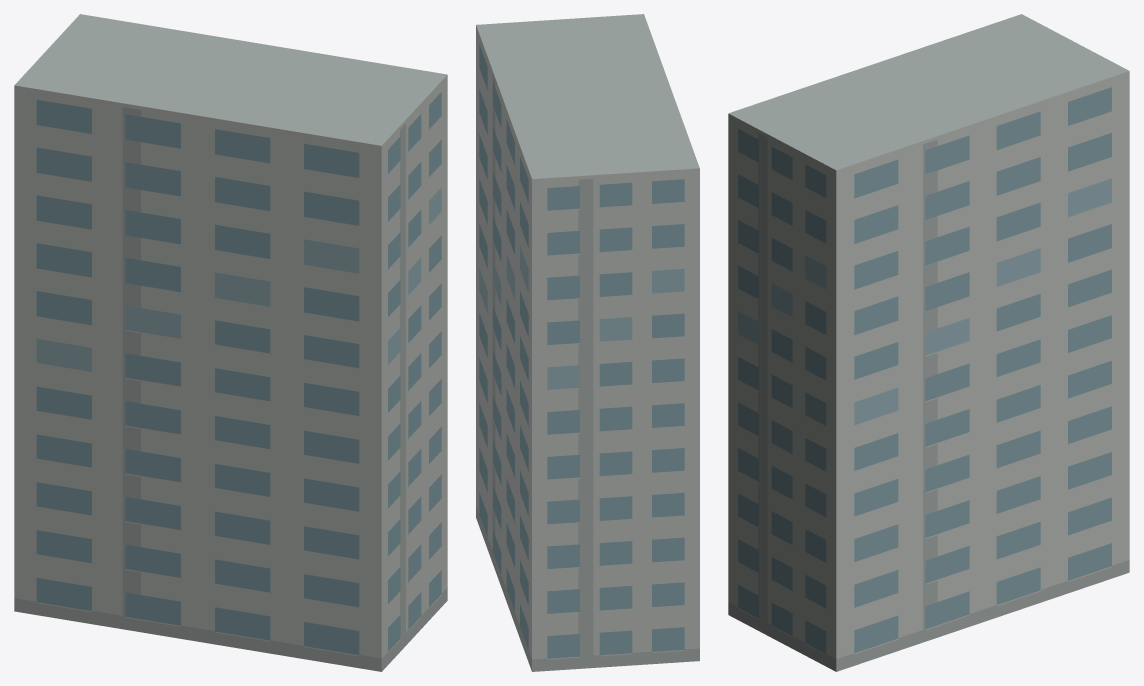
The model's file is residential-b2203c23-348d-415d-bcac-4bb46a696c18.glb.
3 renders of one model, left to right at view 1: azimuth 30°, elevation 25°; view 2: azimuth 150°, elevation 25°; view 3: azimuth 270°, elevation 25°, orthographic. The views are drawn at different scales.
Visible parts, largest first — view 1: residential-b2203c23-348d-415d-bcac-4bb46a696c18.tmp; view 2: residential-b2203c23-348d-415d-bcac-4bb46a696c18.tmp; view 3: residential-b2203c23-348d-415d-bcac-4bb46a696c18.tmp.
Part boxes in pixels (x1=…): residential-b2203c23-348d-415d-bcac-4bb46a696c18.tmp: x1=14, y1=14, x2=447, y2=671; residential-b2203c23-348d-415d-bcac-4bb46a696c18.tmp: x1=476, y1=14, x2=699, y2=671; residential-b2203c23-348d-415d-bcac-4bb46a696c18.tmp: x1=728, y1=14, x2=1129, y2=671.
Bounding box in the file's own units: 23.41 × 35 × 25.4.
